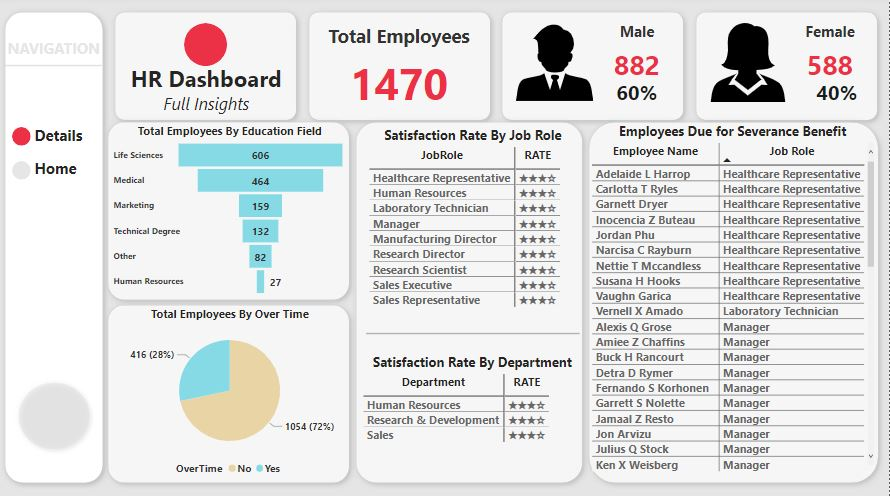

Layout of this report page (visuals, bound fields, positions):
{"tool":"powerbi","page":{"name":"HOME","canvas":[1280,720],"ordinal":0},"visuals":[{"type":"shape","box":[0,12.9,158.1,694.1],"z":0},{"type":"shape","box":[158.3,12.4,278,173.4],"z":1000},{"type":"shape","box":[436.3,12.4,278,173.4],"z":2000},{"type":"shape","box":[992.3,12.4,278,173.4],"z":3000},{"type":"shape","box":[714.3,12.4,278,173.4],"z":4000},{"type":"shape","box":[155.2,171,277.4,537.5],"z":5000},{"type":"textbox","box":[173.9,86.2,244.3,96.3],"z":6000},{"type":"shape","box":[265.6,37.2,61.9,61.9],"z":7000},{"type":"card","title":"Total Employees","fields":{"Values":["CountNonNull(HR Analytics Data.Gender)"]},"box":[455.6,37.2,238.1,132.1],"z":8000},{"type":"card","title":"Male","fields":{"Values":["CountNonNull(HR Analytics Data.Gender)"]},"box":[840.7,34.5,152.3,103.5],"z":9000},{"type":"card","title":"Male","fields":{"Values":["MEASURES (2).% of Male"]},"box":[863.7,106.3,106.3,63.2],"z":10000},{"type":"card","title":"Female","fields":{"Values":["CountNonNull(HR Analytics Data.Gender)"]},"box":[1118.1,34.5,152.3,103.5],"z":11000},{"type":"card","title":"Male","fields":{"Values":["MEASURES (2).% of Female"]},"box":[1151.1,106.3,106.3,63.2],"z":12000},{"type":"card","title":"Due for Promotion","fields":{"Values":["MEASURES (2).Due for promotion"]},"box":[168.1,198.3,258.7,138],"z":13000},{"type":"card","title":"Not Due for Promotion","fields":{"Values":["MEASURES (2).Not Due for prompotion"]},"box":[143.7,446.9,294.6,138],"z":14000},{"type":"card","title":"Male","fields":{"Values":["MEASURES (2).% of Due Promotion"]},"box":[244.3,329.1,106.3,63.2],"z":15000},{"type":"card","title":"Male","fields":{"Values":["MEASURES (2).% Not Due for promotion"]},"box":[238.6,584.9,106.3,63.2],"z":16000},{"type":"shape","box":[172.5,405.3,244.3,12.9],"z":17000},{"type":"shape","box":[426.8,171,413.9,291.7],"z":18000},{"type":"barChart","title":"Total employees by Service years","fields":{"Category":["HR Analytics Data.Service Yeasr"],"Y":["CountNonNull(HR Analytics Data.Gender)"],"Series":["HR Analytics Data.Gender"]},"box":[436.9,186.8,390.9,265.9],"z":19000},{"type":"shape","box":[839.3,171,432.6,291.7],"z":20000},{"type":"clusteredColumnChart","title":"Total employees by Job level","fields":{"Category":["HR Analytics Data.Level JOB"],"Y":["CountNonNull(HR Analytics Data.Gender)"],"Series":["HR Analytics Data.Gender"]},"box":[840.7,185.4,416.8,261.6],"z":21000},{"type":"shape","box":[839.3,454.1,431.1,254.4],"z":22000},{"type":"shape","box":[426.8,454.1,206.9,254.4],"z":23000},{"type":"shape","box":[632.3,454.1,206.9,254.4],"z":24000},{"type":"card","title":"Will last in service","fields":{"Values":["MEASURES (2).No. of lasting in srevice"]},"box":[436.9,492.9,178.2,103.5],"z":25000},{"type":"card","title":"Will be laid off","fields":{"Values":["MEASURES (2).laid off"]},"box":[646.7,492.9,178.2,103.5],"z":26000},{"type":"card","title":"Male","fields":{"Values":["MEASURES (2).% of last in service"]},"box":[477.1,596.4,106.3,63.2],"z":27000},{"type":"card","title":"Male","fields":{"Values":["MEASURES (2).% of laid off"]},"box":[682.6,596.4,106.3,63.2],"z":28000},{"type":"donutChart","title":"Total Employees By Distance Status","fields":{"Y":["CountNonNull(HR Analytics Data.Gender)"],"Category":["HR Analytics Data.Distances Statues"]},"box":[852.2,472.8,405.3,222.8],"z":29000},{"type":"shape","box":[18.7,544.7,120.7,115],"z":30000},{"type":"actionButton","box":[743,37.4,110.7,113.5],"z":31000},{"type":"actionButton","box":[1020.4,37.4,110.7,113.5],"z":32000},{"type":"shape","box":[8.6,92,139.4,12.9],"z":33000},{"type":"textbox","box":[1.4,54.3,154.3,40],"z":34000},{"type":"shape","box":[18.8,186.9,27.5,27.5],"z":35000},{"type":"textbox","box":[49.6,179.4,80,42.5],"z":36000},{"type":"shape","box":[18.8,240,27.5,27.5],"z":37000},{"type":"textbox","box":[49.3,234.7,94,47.3],"z":38000}]}

Visuals, with their boxes in screenshot pixels (x1, y1, x2, y2), scaled from the page's 1280x720 canvas onto the 890x496 screenshot:
shape: (x1=0, y1=9, x2=110, y2=487)
shape: (x1=110, y1=9, x2=303, y2=128)
shape: (x1=303, y1=9, x2=497, y2=128)
shape: (x1=690, y1=9, x2=883, y2=128)
shape: (x1=497, y1=9, x2=690, y2=128)
shape: (x1=108, y1=118, x2=301, y2=488)
textbox: (x1=121, y1=59, x2=291, y2=126)
shape: (x1=185, y1=26, x2=228, y2=68)
"Total Employees" card: (x1=317, y1=26, x2=482, y2=117)
"Male" card: (x1=585, y1=24, x2=690, y2=95)
"Male" card: (x1=601, y1=73, x2=674, y2=117)
"Female" card: (x1=777, y1=24, x2=883, y2=95)
"Male" card: (x1=800, y1=73, x2=874, y2=117)
"Due for Promotion" card: (x1=117, y1=137, x2=297, y2=232)
"Not Due for Promotion" card: (x1=100, y1=308, x2=305, y2=403)
"Male" card: (x1=170, y1=227, x2=244, y2=270)
"Male" card: (x1=166, y1=403, x2=240, y2=446)
shape: (x1=120, y1=279, x2=290, y2=288)
shape: (x1=297, y1=118, x2=585, y2=319)
"Total employees by Service years" barChart: (x1=304, y1=129, x2=576, y2=312)
shape: (x1=584, y1=118, x2=884, y2=319)
"Total employees by Job level" clusteredColumnChart: (x1=585, y1=128, x2=874, y2=308)
shape: (x1=584, y1=313, x2=883, y2=488)
shape: (x1=297, y1=313, x2=441, y2=488)
shape: (x1=440, y1=313, x2=584, y2=488)
"Will last in service" card: (x1=304, y1=340, x2=428, y2=411)
"Will be laid off" card: (x1=450, y1=340, x2=574, y2=411)
"Male" card: (x1=332, y1=411, x2=406, y2=454)
"Male" card: (x1=475, y1=411, x2=549, y2=454)
"Total Employees By Distance Status" donutChart: (x1=593, y1=326, x2=874, y2=479)
shape: (x1=13, y1=375, x2=97, y2=454)
actionButton: (x1=517, y1=26, x2=594, y2=104)
actionButton: (x1=709, y1=26, x2=786, y2=104)
shape: (x1=6, y1=63, x2=103, y2=72)
textbox: (x1=1, y1=37, x2=108, y2=65)
shape: (x1=13, y1=129, x2=32, y2=148)
textbox: (x1=34, y1=124, x2=90, y2=153)
shape: (x1=13, y1=165, x2=32, y2=184)
textbox: (x1=34, y1=162, x2=100, y2=194)
